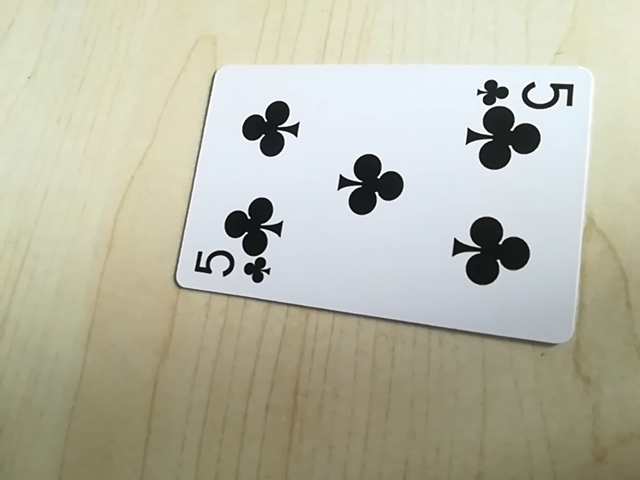mh 5: (472, 74, 578, 112), (189, 248, 277, 286)
